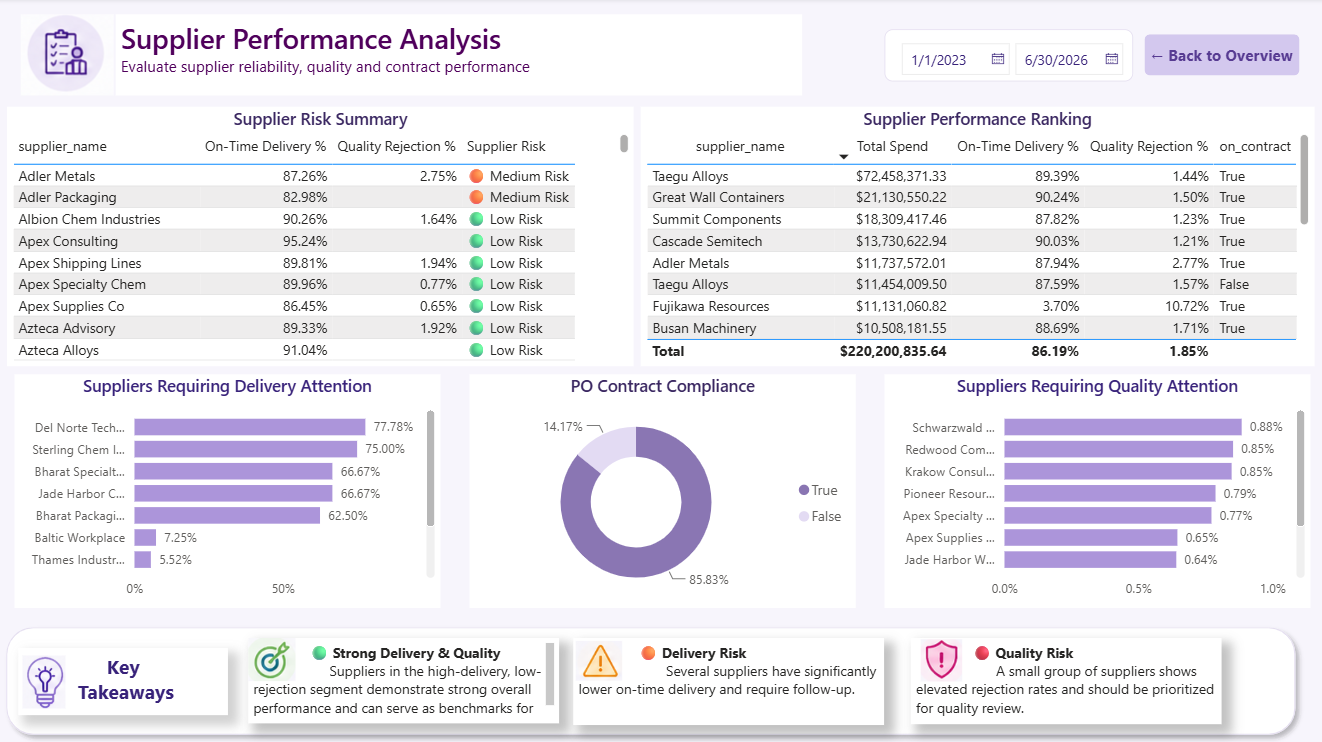

The dashboard page shown, as its layout file describes it:
{"tool":"powerbi","page":{"name":"Supplier Perfomance","canvas":[1280,720],"ordinal":1},"visuals":[{"type":"textbox","box":[241.9,617.6,300,82.4],"z":0,"group":"g2"},{"type":"textbox","box":[556.8,617.6,300,83.8],"z":0,"group":"g3"},{"type":"shape","box":[889.2,617.6,263.5,91.9],"z":0},{"type":"textbox","box":[20.3,627,202.7,64.9],"z":0,"group":"g1"},{"type":"image","title":"Logo","box":[20.5,15.7,94.1,78.4],"z":1000},{"type":"image","box":[241.9,617.6,45.9,41.9],"z":1000,"group":"g2"},{"type":"image","box":[559.5,619,45,41],"z":1000,"group":"g3"},{"type":"image","box":[23,633.8,44.6,51.4],"z":1000,"group":"g1"},{"type":"textbox","title":"Title Text Box","box":[114.6,15.7,662.3,78.4],"z":2000},{"type":"slicer","title":"Date Slicer","fields":{"Values":["date.Date"]},"box":[856.6,30.2,240.1,50.7],"z":3000},{"type":"actionButton","title":"back to Overview","box":[1107.5,35,149.6,39.8],"z":4000},{"type":"clusteredBarChart","title":"Suppliers Requiring Delivery Attention","fields":{"Category":["purchase_orders.supplier_name"],"Y":["_measures.On-Time Delivery %"]},"box":[17,363.5,410.8,225.7],"z":5000},{"type":"clusteredBarChart","title":"Suppliers Requiring Quality Attention","fields":{"Category":["purchase_orders.supplier_name"],"Y":["_measures.Quality Rejection %"]},"box":[856.8,363.5,410.8,225.7],"z":6000},{"type":"donutChart","title":"PO Contract Compliance","fields":{"Category":["purchase_orders.on_contract"],"Y":["CountNonNull(purchase_orders.po_id)"]},"box":[455.8,363.5,373,225.7],"z":7000},{"type":"tableEx","title":"Supplier Performance Ranking","fields":{"Values":["purchase_orders.supplier_name","_measures.Total Spend","_measures.On-Time Delivery %","_measures.Quality Rejection %","purchase_orders.on_contract"]},"box":[621.6,105.4,650,250],"z":8000},{"type":"tableEx","title":"Supplier Risk Summary","fields":{"Values":["purchase_orders.supplier_name","_measures.On-Time Delivery %","_measures.Quality Rejection %","_measures.Supplier Risk"]},"box":[9.5,105.4,605,250],"z":9000},{"type":"shape","box":[0,598.6,1262.2,121.6],"z":10000},{"type":"group","id":"g1","title":"Key takwaways","box":[20.3,627,202.7,64.9],"z":11000},{"type":"group","id":"g2","title":"Key takeaway 1","box":[241.9,617.6,300,82.4],"z":12000},{"type":"group","id":"g3","title":"Key Takeaway 2","box":[556.8,617.6,300,83.8],"z":13000},{"type":"textbox","box":[882.4,617.6,300,83],"z":14000,"group":"g4"},{"type":"image","box":[889.2,619,44.6,40.5],"z":15000,"group":"g4"},{"type":"group","id":"g4","title":"Key takeaway 2","box":[882.4,617.6,300,83],"z":15001}]}

Visuals, with their boxes in screenshot pixels (x1, y1, x2, y2), scaled from the page's 1280x720 canvas onto the 1322x742 screenshot:
textbox: rect(250, 636, 560, 721)
textbox: rect(575, 636, 885, 723)
shape: rect(918, 636, 1191, 731)
textbox: rect(21, 646, 230, 713)
"Logo" image: rect(21, 16, 118, 97)
image: rect(250, 636, 297, 680)
image: rect(578, 638, 624, 680)
image: rect(24, 653, 70, 706)
"Title Text Box" textbox: rect(118, 16, 802, 97)
"Date Slicer" slicer: rect(885, 31, 1133, 83)
"back to Overview" actionButton: rect(1144, 36, 1298, 77)
"Suppliers Requiring Delivery Attention" clusteredBarChart: rect(18, 375, 442, 607)
"Suppliers Requiring Quality Attention" clusteredBarChart: rect(885, 375, 1309, 607)
"PO Contract Compliance" donutChart: rect(471, 375, 856, 607)
"Supplier Performance Ranking" tableEx: rect(642, 109, 1313, 366)
"Supplier Risk Summary" tableEx: rect(10, 109, 635, 366)
shape: rect(0, 617, 1304, 741)
"Key takwaways" group: rect(21, 646, 230, 713)
"Key takeaway 1" group: rect(250, 636, 560, 721)
"Key Takeaway 2" group: rect(575, 636, 885, 723)
textbox: rect(911, 636, 1221, 722)
image: rect(918, 638, 964, 680)
"Key takeaway 2" group: rect(911, 636, 1221, 722)
